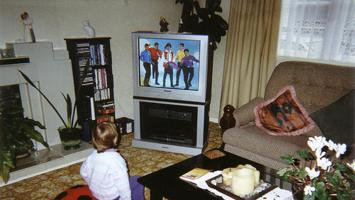person: (80, 122, 146, 200)
